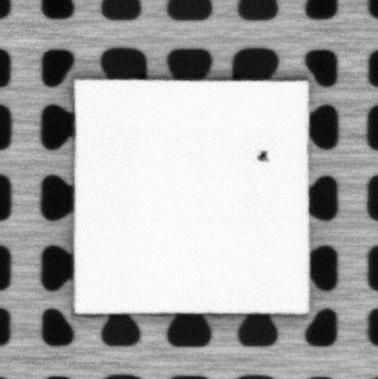DIE_INK: (257, 149, 271, 164)
